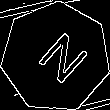N_SW: (24, 25, 87, 89)
